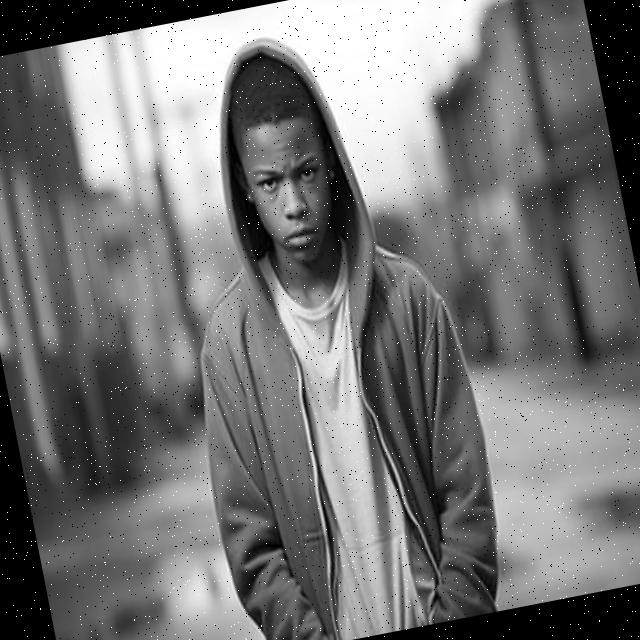Angry: (237, 116, 344, 270)
